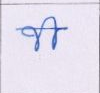i_matra: (45, 15, 60, 50)
